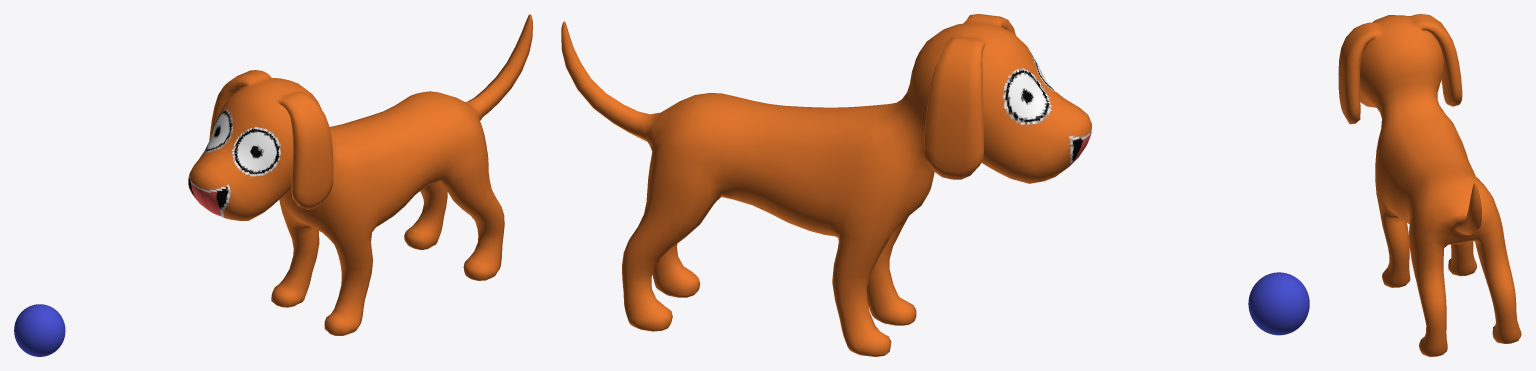
File: Paint3DDog.glb
The picture shows the model from 3 angles, left to right: view 1: azimuth 30°, elevation 25°; view 2: azimuth 150°, elevation 25°; view 3: azimuth 270°, elevation 25°; orthographic projection. The views are drawn at different scales.
Parts seen in each view (by area): view 1: mesh_id27, mesh_id29; view 2: mesh_id27, mesh_id29; view 3: mesh_id27.
Part boxes in pixels (box(x1,y1,x2,y2)): mesh_id27: box(188, 14, 532, 335); mesh_id29: box(14, 304, 65, 356); mesh_id27: box(561, 14, 1091, 356); mesh_id29: box(1248, 272, 1309, 335); mesh_id27: box(1338, 14, 1521, 356).
Size of the model in its own units: 0.3585 by 0.1587 by 0.1125.
Materials: 2 (2 with a texture image).
